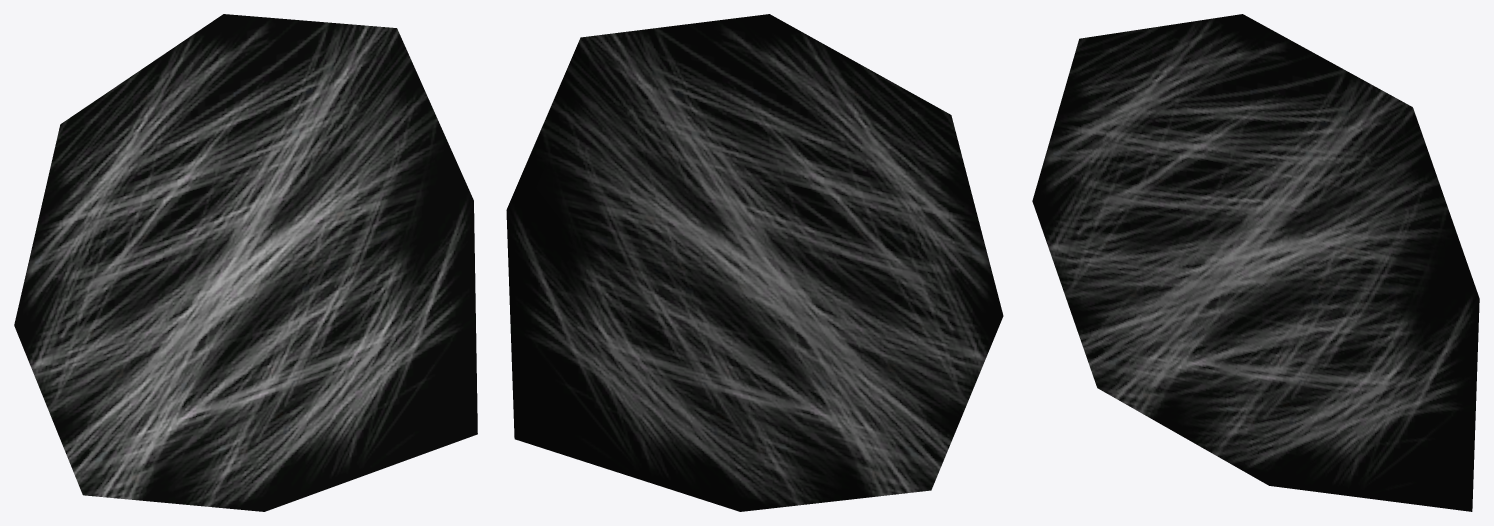
The model's file is DWARF_PALACE_SPIDERWEB_COVERS14.fbx.
3 renders of one model, left to right at view 1: azimuth 30°, elevation 25°; view 2: azimuth 150°, elevation 25°; view 3: azimuth 330°, elevation 25°, orthographic. The views are drawn at different scales.
Visible parts, largest first — view 1: DWARF_PALACE_SPIDERWEB_COVERS14; view 2: DWARF_PALACE_SPIDERWEB_COVERS14; view 3: DWARF_PALACE_SPIDERWEB_COVERS14.
Part boxes in pixels (x1=…): DWARF_PALACE_SPIDERWEB_COVERS14: x1=14, y1=14, x2=477, y2=511; DWARF_PALACE_SPIDERWEB_COVERS14: x1=506, y1=14, x2=1003, y2=511; DWARF_PALACE_SPIDERWEB_COVERS14: x1=1032, y1=14, x2=1479, y2=511.
Bounding box in the file's own units: 26959 × 27287 × 1598.
Materials: 1 (1 with a texture image).
